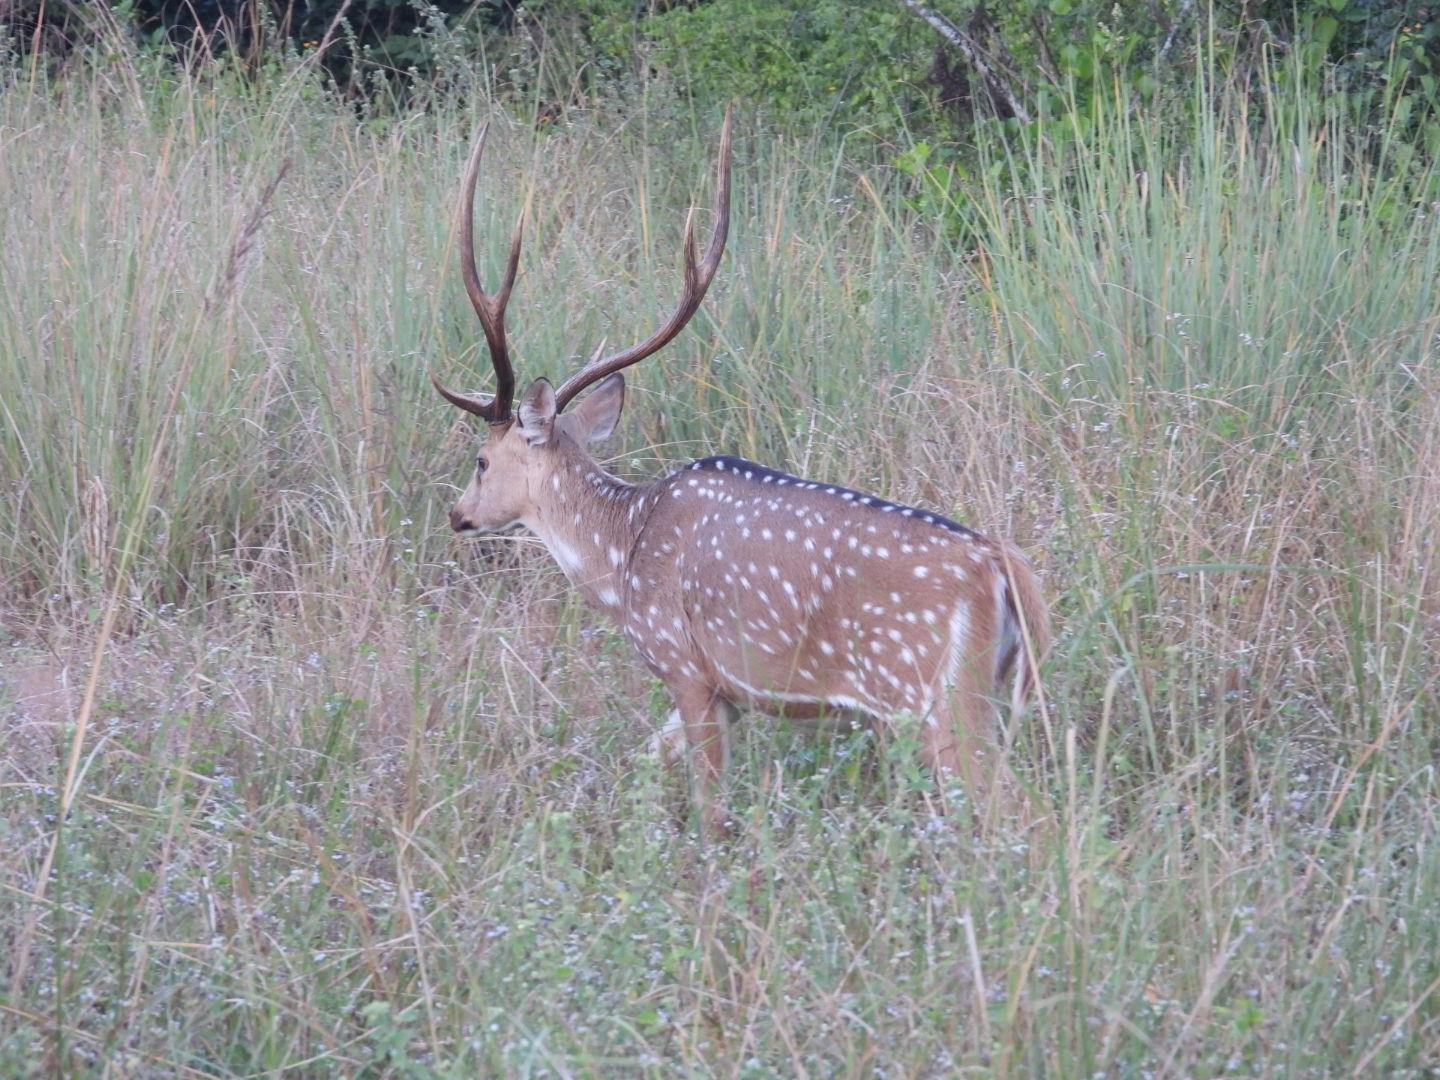Deer: (434, 110, 1047, 802)
